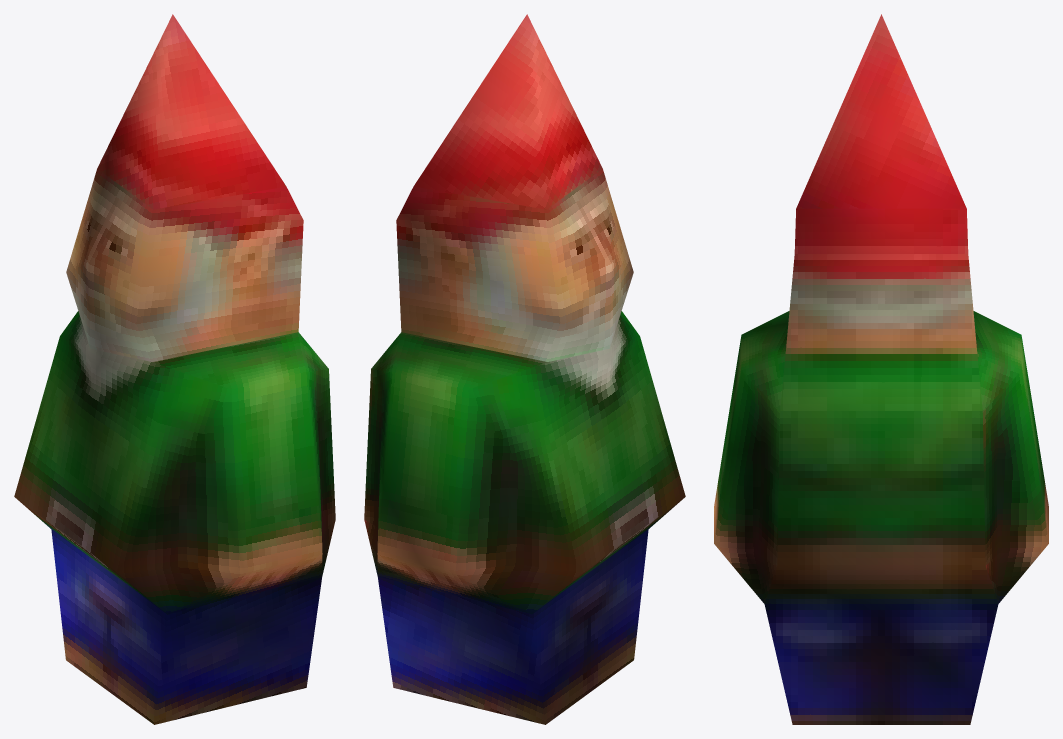
The model's file is garden_gnome.glb.
3 views of the same model, side by side, from view 1: azimuth 30°, elevation 25°; view 2: azimuth 150°, elevation 25°; view 3: azimuth 270°, elevation 25° (orthographic).
Visible parts, largest first — view 1: Cube; view 2: Cube; view 3: Cube.
Part boxes in pixels (x1,y1,x2,y2): Cube: [14, 14, 335, 724]; Cube: [364, 14, 685, 724]; Cube: [714, 14, 1048, 724].
Bounding box in the file's own units: 0.8617 × 2.51 × 1.14.
Materials: 1 (1 with a texture image).
